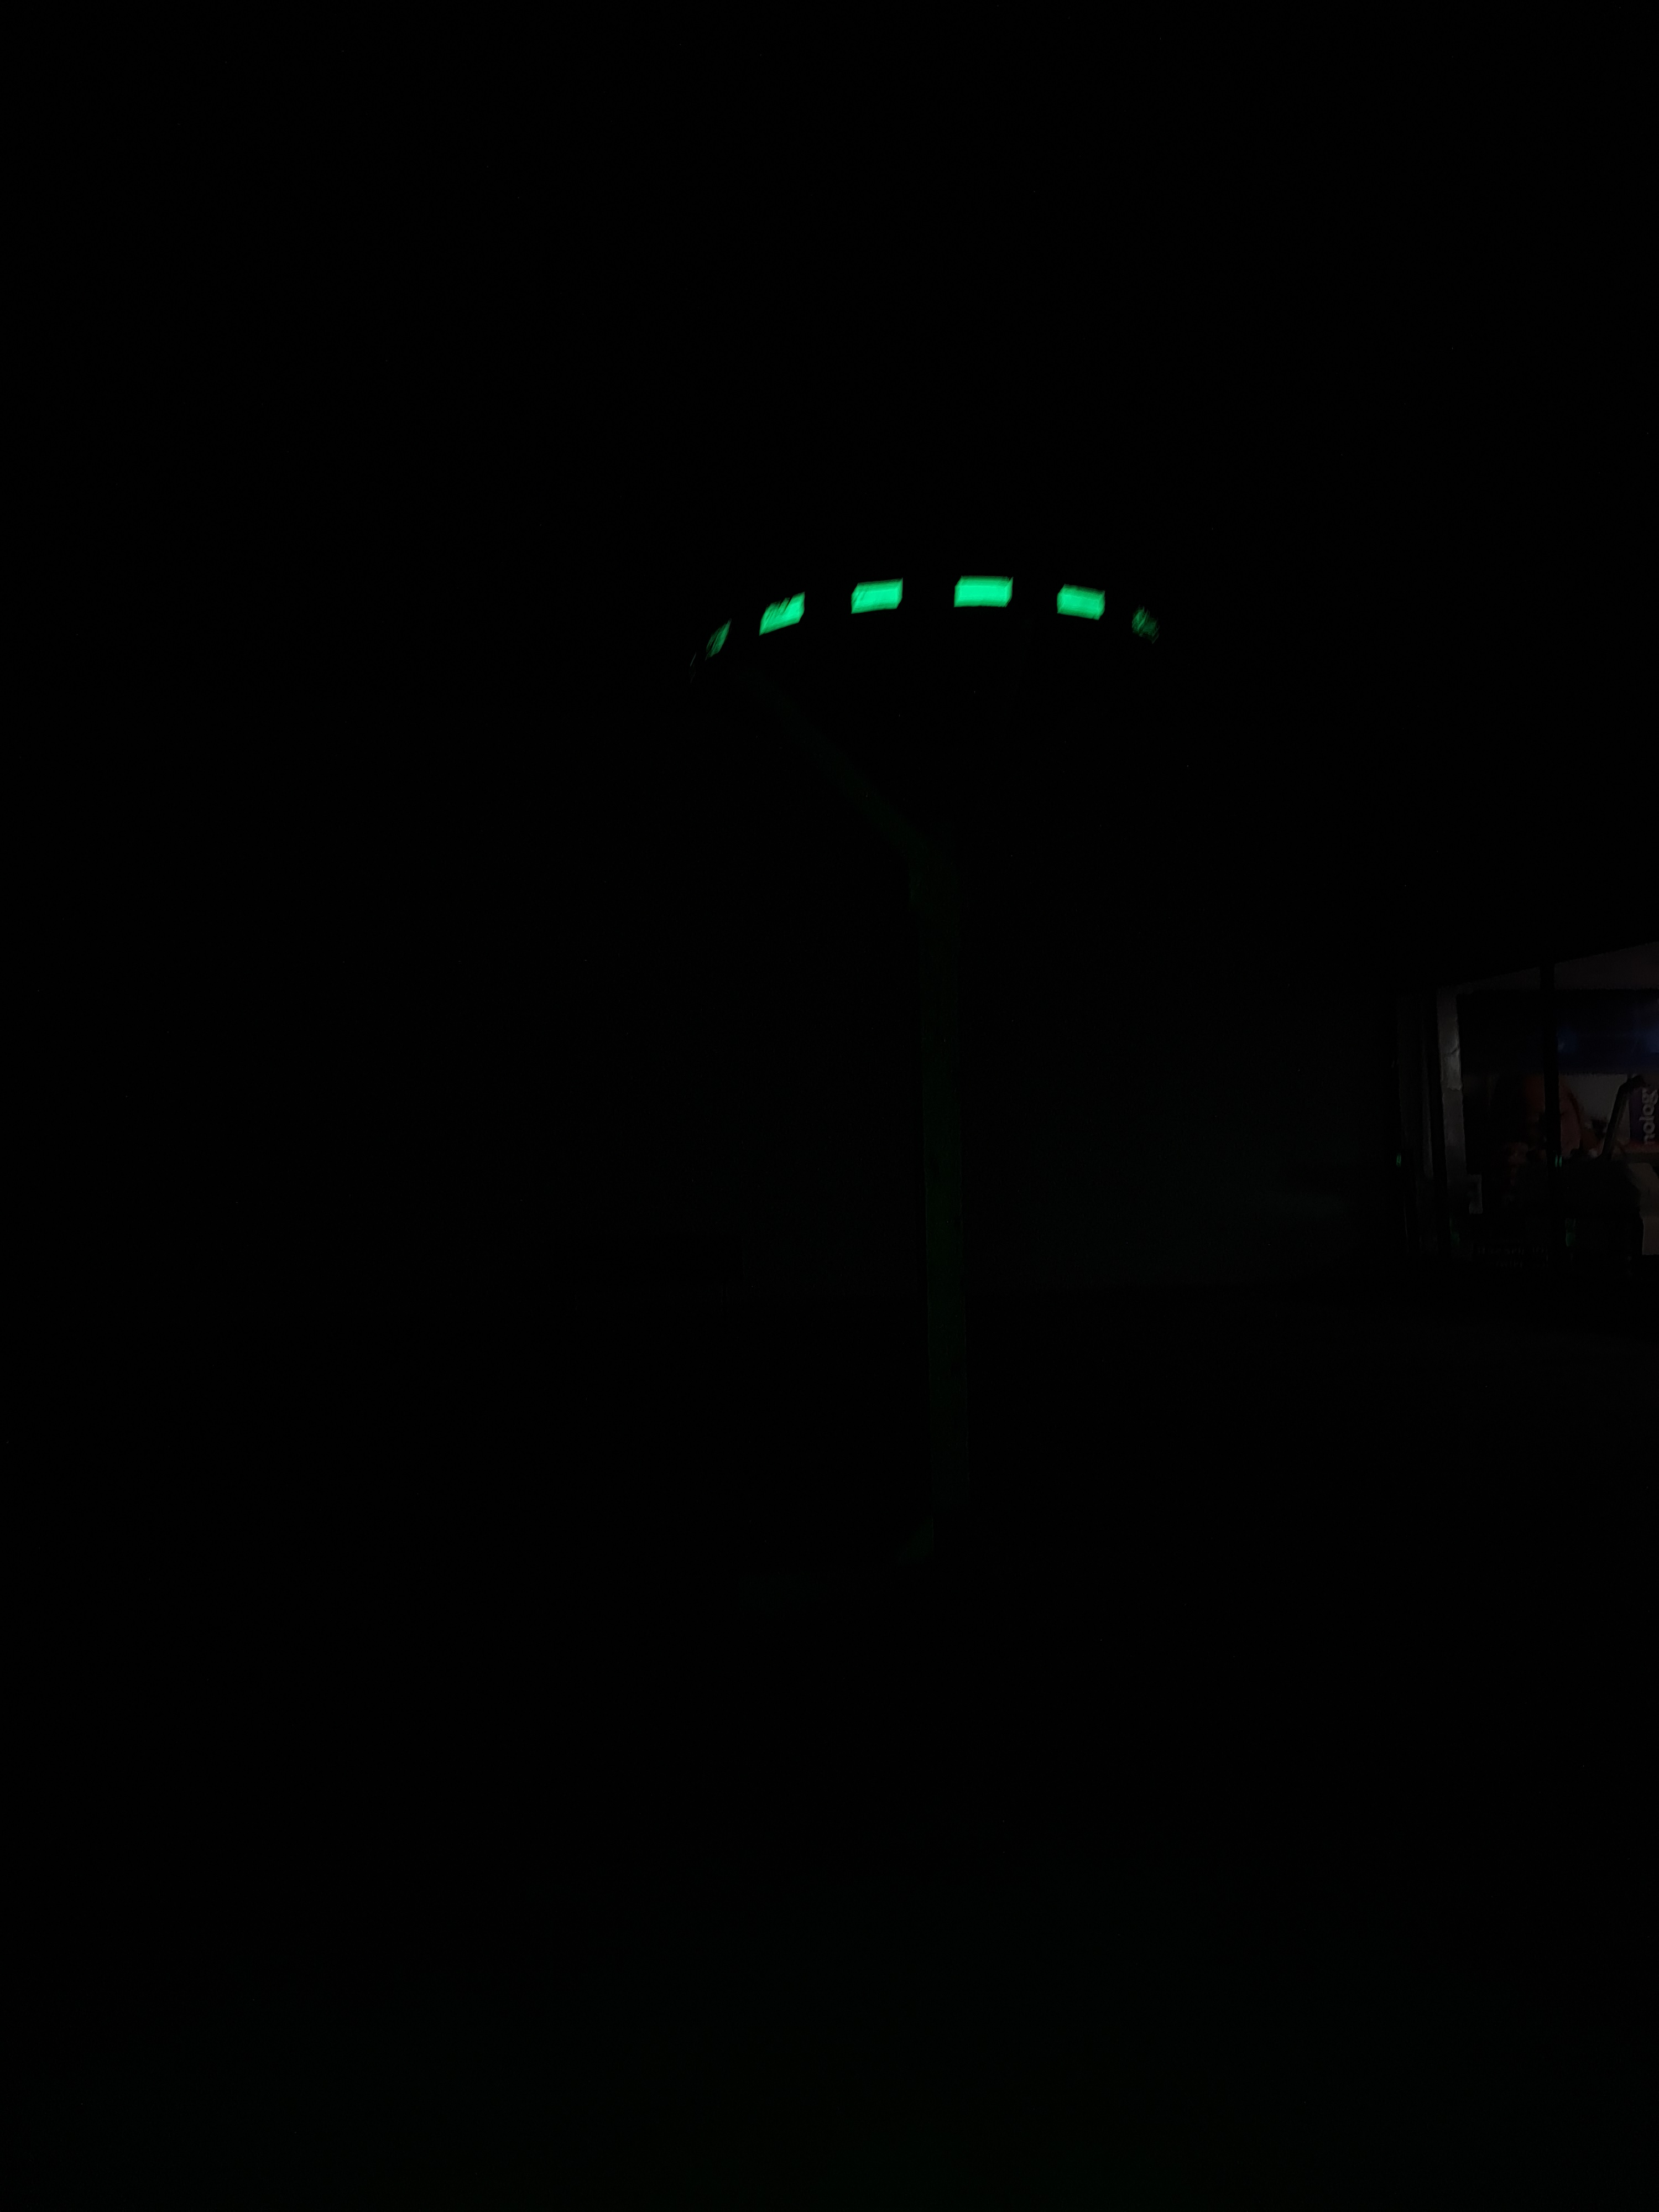hoop: (667, 577, 1180, 664)
